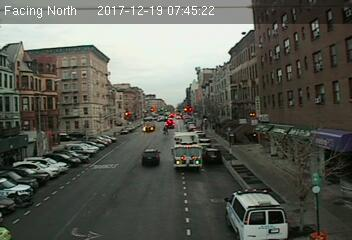car: (204, 145, 223, 164), (140, 147, 160, 164)
police: (223, 187, 293, 239)
truck: (173, 131, 201, 169)
